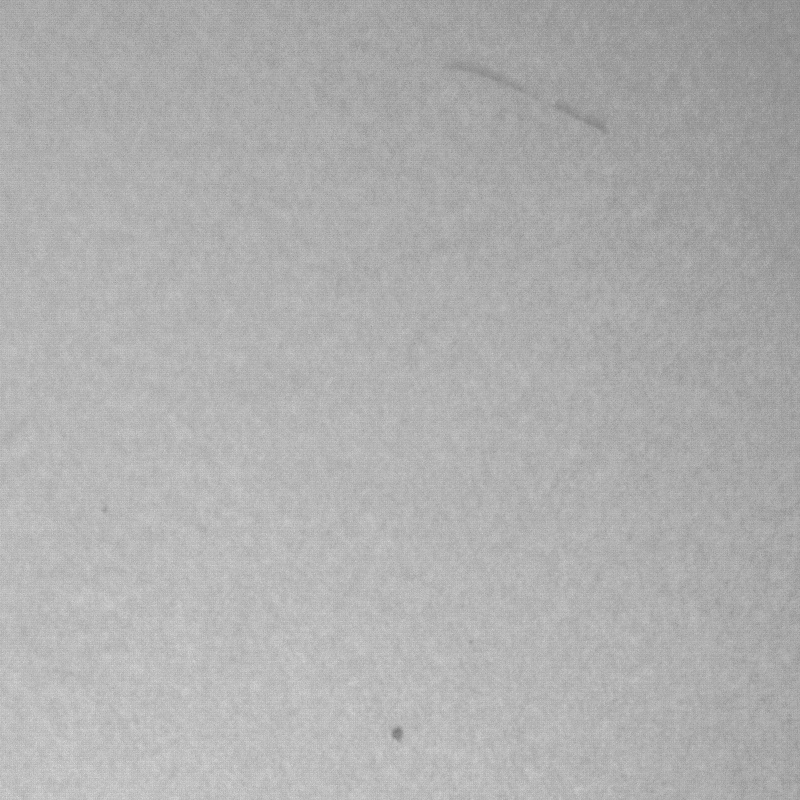defect: (450, 65, 623, 137), (388, 723, 428, 742), (99, 499, 115, 519)
